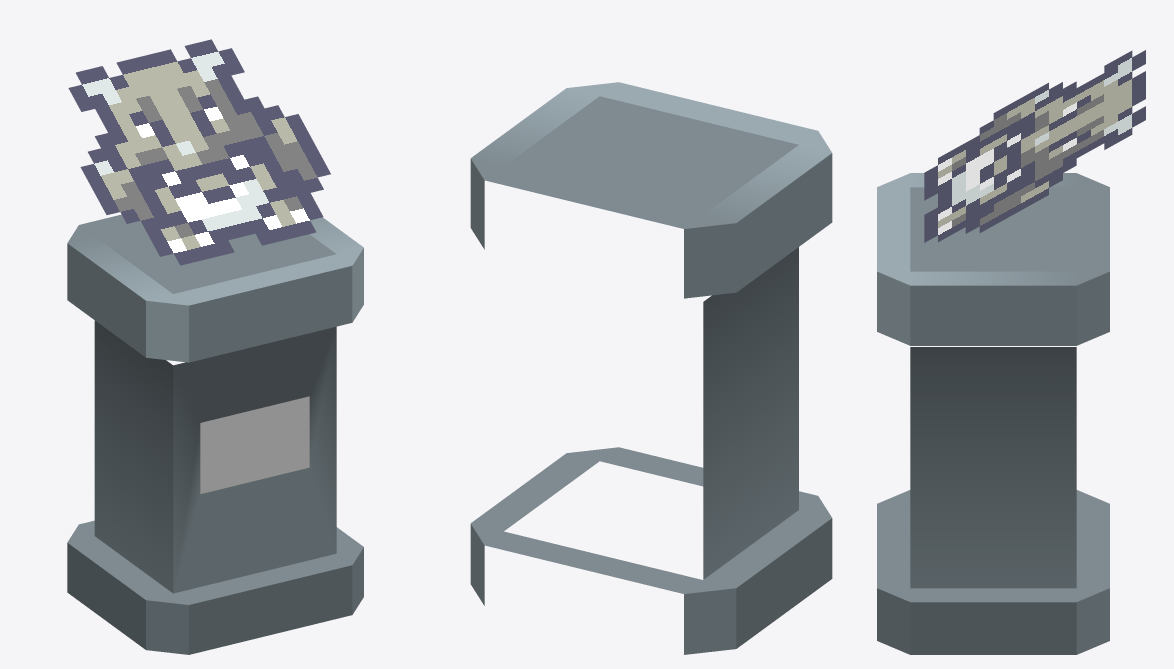
3 views of the same model, side by side, from view 1: azimuth 30°, elevation 25°; view 2: azimuth 150°, elevation 25°; view 3: azimuth 270°, elevation 25° (orthographic). The views are drawn at different scales.
Parts seen in each view (by area): view 1: object01; view 2: object01; view 3: object01.
Boxes of the visible parts, bbox=[...] form: object01: bbox=[67, 39, 363, 654]; object01: bbox=[470, 82, 832, 654]; object01: bbox=[877, 50, 1145, 654].
Size of the model in its own units: 1.12 by 2.16 by 1.06.
Materials: 2 (2 with a texture image).
